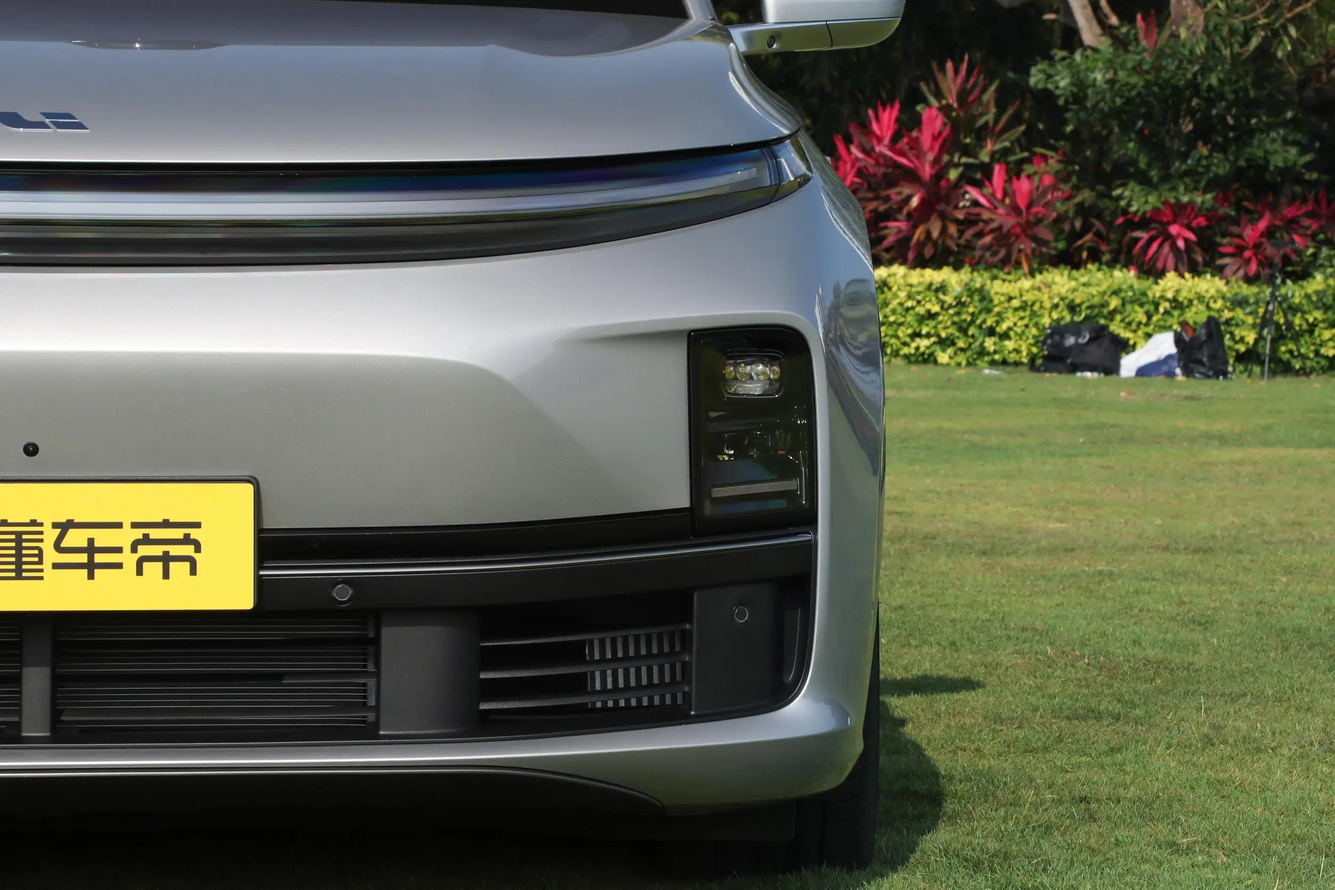Li Auto: (1, 110, 92, 132)
